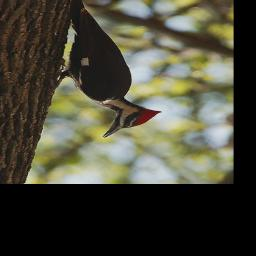Woodpecker: (41, 0, 162, 138)
